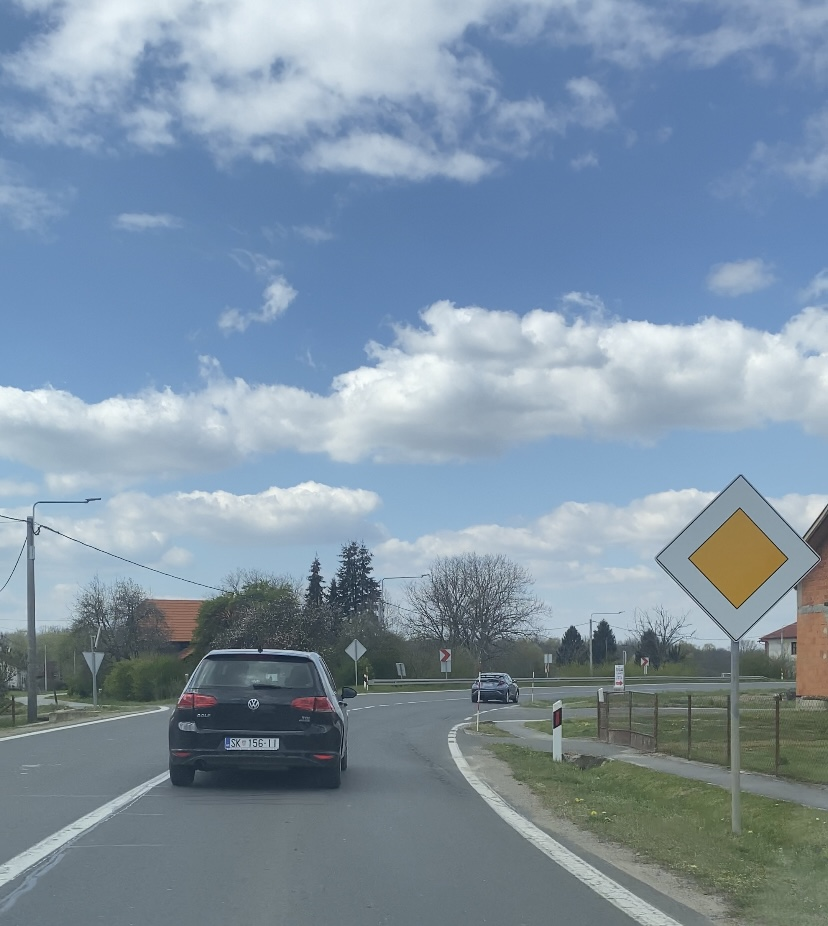Cesta s prednošću prolaska: (654, 473, 822, 642)
